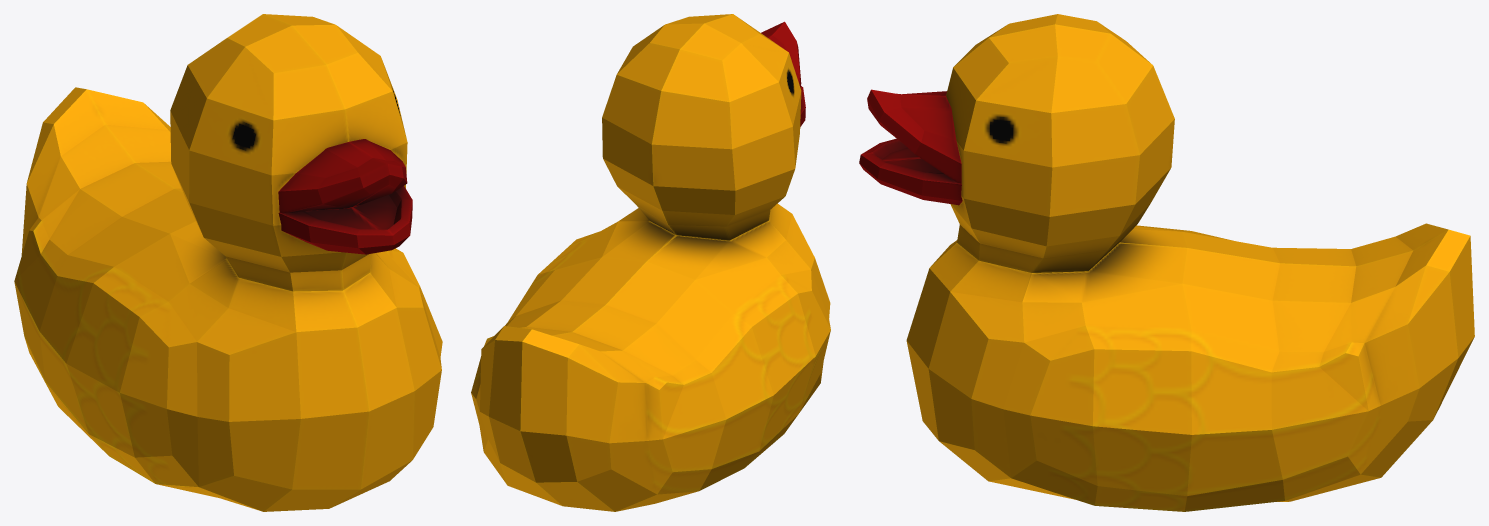
Rendered from ev_duck.glb.
3 renders of one model, left to right at view 1: azimuth 30°, elevation 25°; view 2: azimuth 150°, elevation 25°; view 3: azimuth 270°, elevation 25°, orthographic. The views are drawn at different scales.
Visible parts, largest first — view 1: RubberDuck_mesh; view 2: RubberDuck_mesh; view 3: RubberDuck_mesh.
Part boxes in pixels (x1=…): RubberDuck_mesh: x1=14, y1=14, x2=442, y2=511; RubberDuck_mesh: x1=471, y1=14, x2=830, y2=511; RubberDuck_mesh: x1=859, y1=14, x2=1474, y2=511.
Bounding box in the file's own units: 3.97 × 5.82 × 7.16.
Materials: 1 (1 with a texture image).
